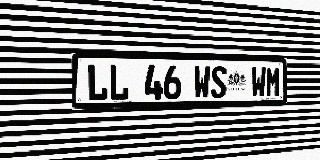4: (144, 64, 163, 100)
6: (163, 65, 181, 99)
L: (87, 64, 108, 101), (109, 64, 129, 101)
M: (266, 67, 280, 97)
S: (211, 66, 227, 98)
W: (193, 65, 210, 99), (251, 66, 266, 97)
